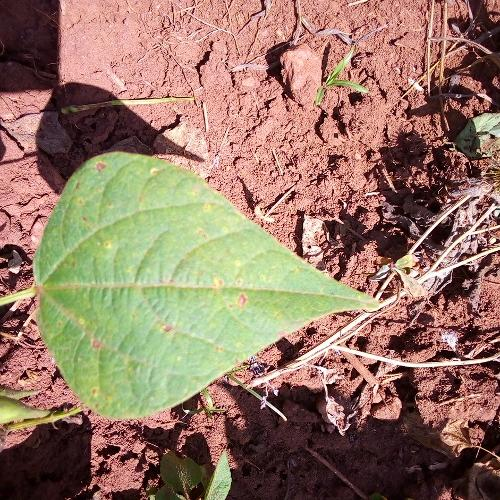hawar: (210, 244, 268, 322), (70, 319, 111, 369), (66, 157, 108, 203), (156, 316, 183, 344)
mozaik: (63, 174, 290, 380)
